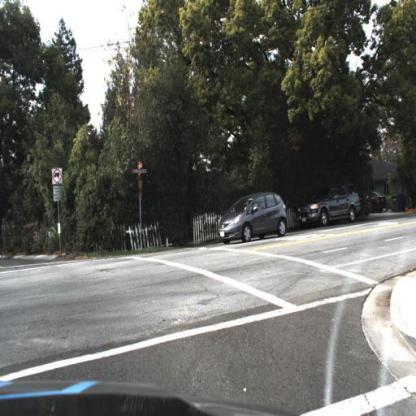car: (213, 190, 287, 244), (296, 178, 362, 228), (368, 190, 391, 216)
